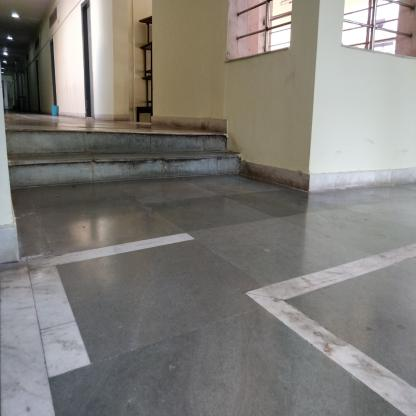stairs: (13, 128, 227, 187)
